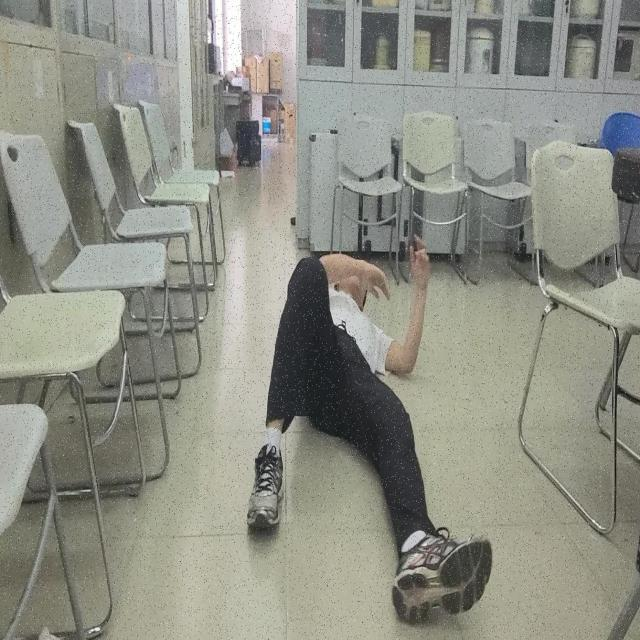fall: (245, 232, 492, 628)
